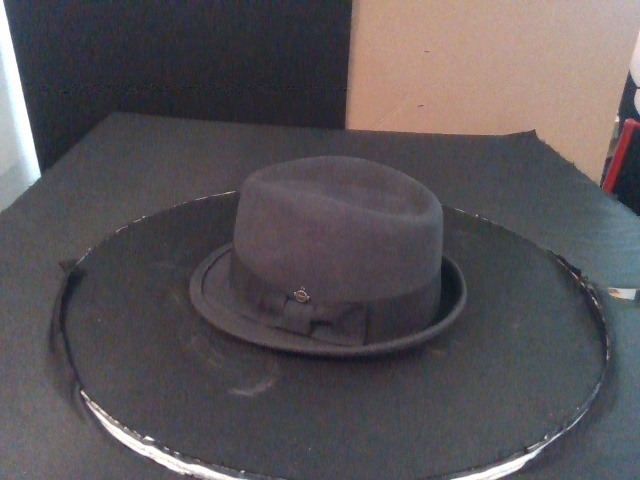hat: (188, 156, 468, 357)
